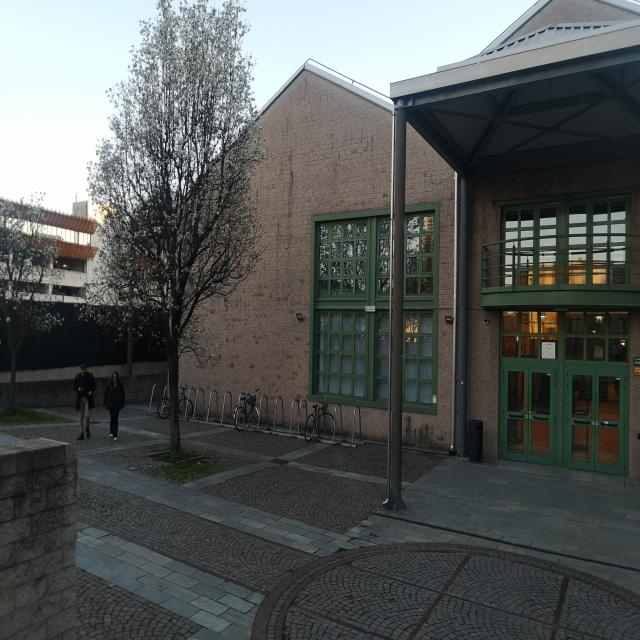Bicycle: (158, 383, 194, 429), (307, 394, 336, 450), (235, 393, 262, 433)
